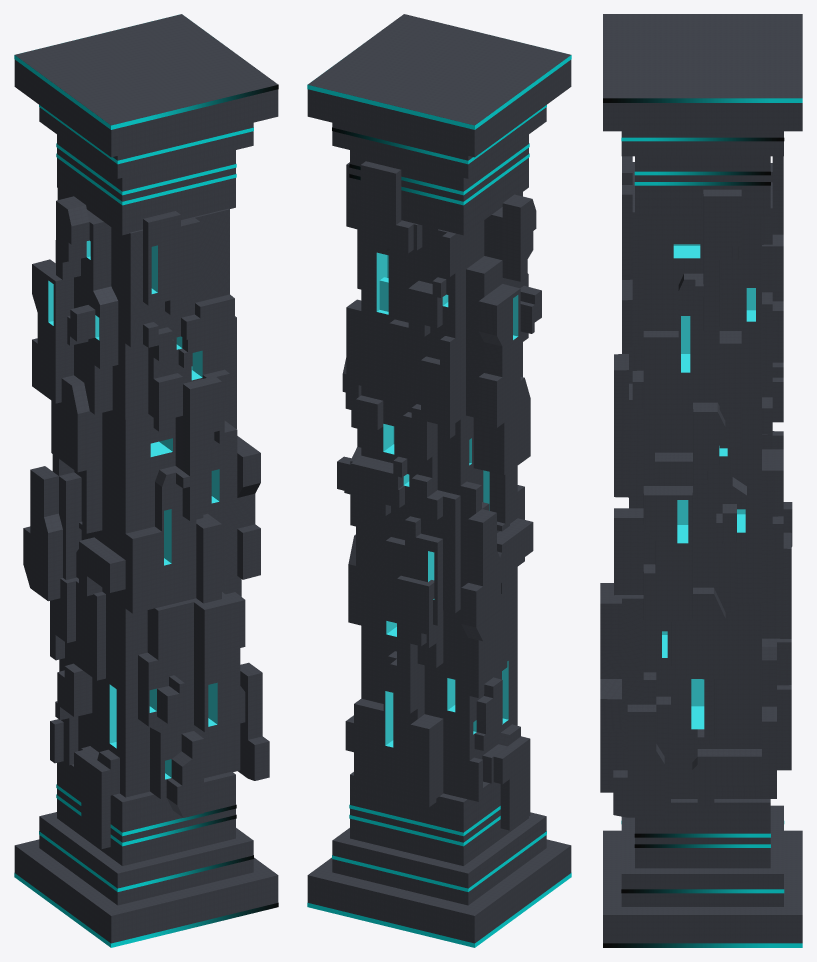
Rendered from AllRoomAa.fbx.
3 renders of one model, left to right at view 1: azimuth 30°, elevation 25°; view 2: azimuth 150°, elevation 25°; view 3: azimuth 270°, elevation 25°, orthographic. The views are drawn at different scales.
Visible parts, largest first — view 1: SM_VA_AllRoomAa.mo; view 2: SM_VA_AllRoomAa.mo; view 3: SM_VA_AllRoomAa.mo.
Part boxes in pixels (box(x1,y1,x2,y2)): SM_VA_AllRoomAa.mo: box(14, 14, 278, 947); SM_VA_AllRoomAa.mo: box(307, 14, 571, 947); SM_VA_AllRoomAa.mo: box(600, 14, 802, 947).
Bounding box in the file's own units: 74.99 × 343 × 74.03.
